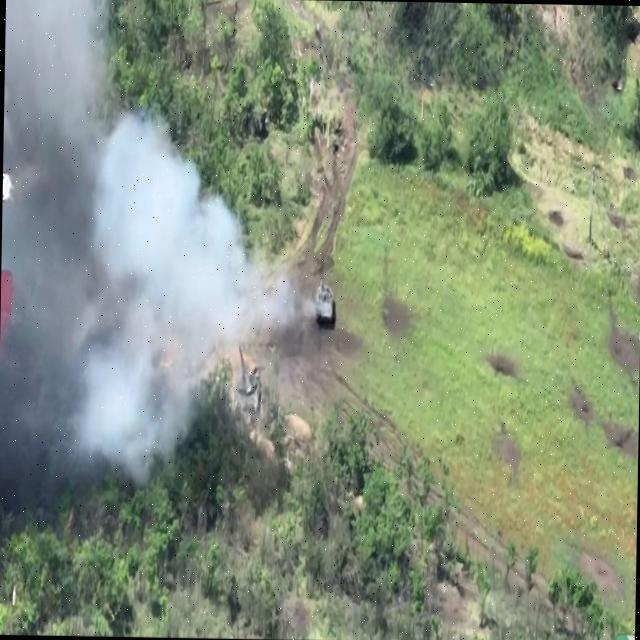AIFV: (314, 280, 337, 328)
MBT: (231, 343, 263, 412)
